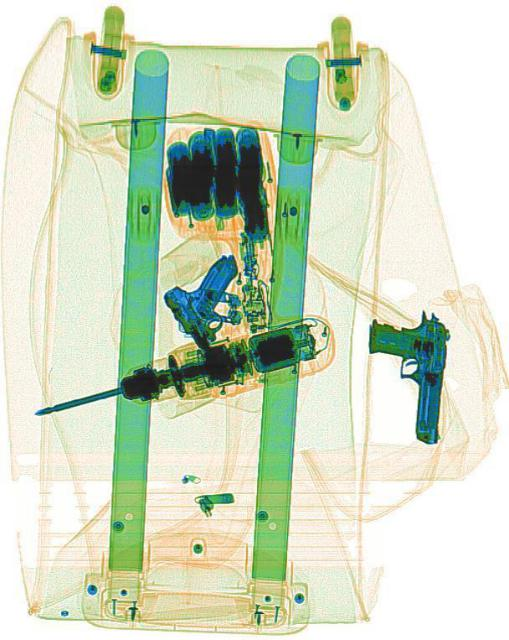Gun: (157, 237, 272, 369), (358, 303, 450, 443)
